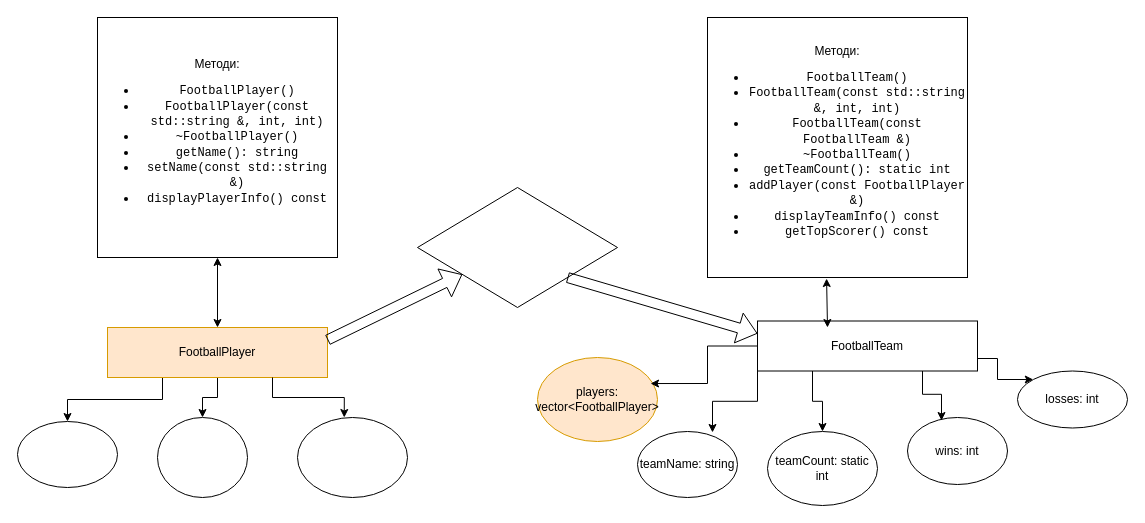
The diagram is 1145 pixels wide and 523 high, and some of its shapes have lost their labels. The shapes that lost their labels are listed below. From the top down, each one's centre as x and y in pixels, then its label:
the point at 517,247: many players in team
the point at 67,454: name: string
the point at 202,457: goals: int
the point at 352,457: yellowCards: int
